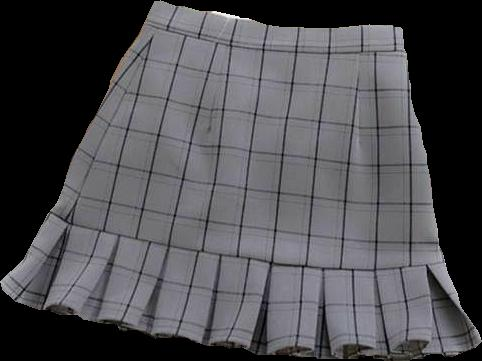Hemline: (0, 286, 481, 360)
Waistline: (48, 211, 446, 273), (142, 22, 405, 53), (153, 0, 402, 29)
